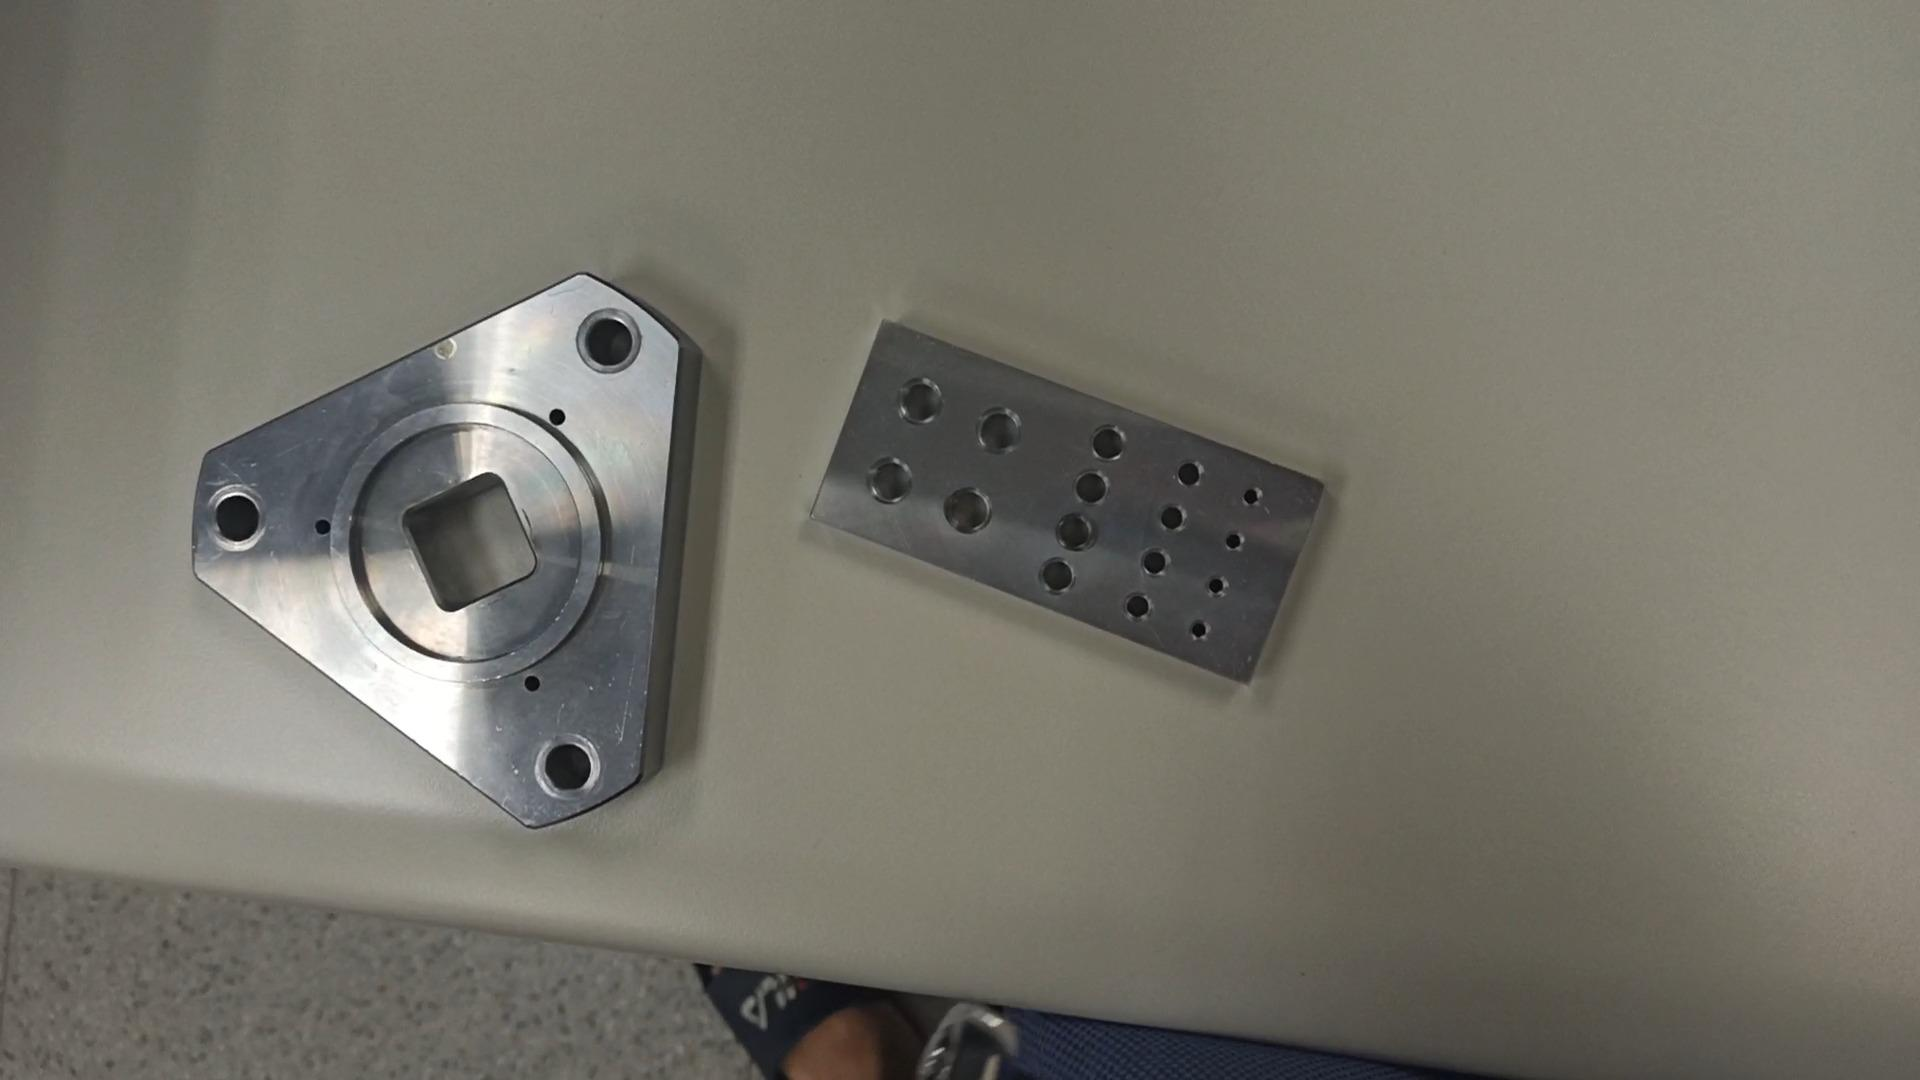hole: (572, 309, 645, 383), (533, 732, 604, 804), (206, 487, 269, 556), (937, 484, 996, 540), (975, 405, 1030, 462), (864, 453, 920, 508), (894, 373, 948, 429), (1051, 510, 1099, 554), (1074, 469, 1117, 511), (1037, 557, 1079, 599), (1092, 420, 1133, 463), (1175, 455, 1213, 491), (1138, 543, 1175, 579), (1120, 591, 1156, 626), (1159, 501, 1195, 536), (1236, 483, 1265, 516), (1189, 615, 1219, 646), (1221, 527, 1251, 555), (1204, 573, 1231, 599)
